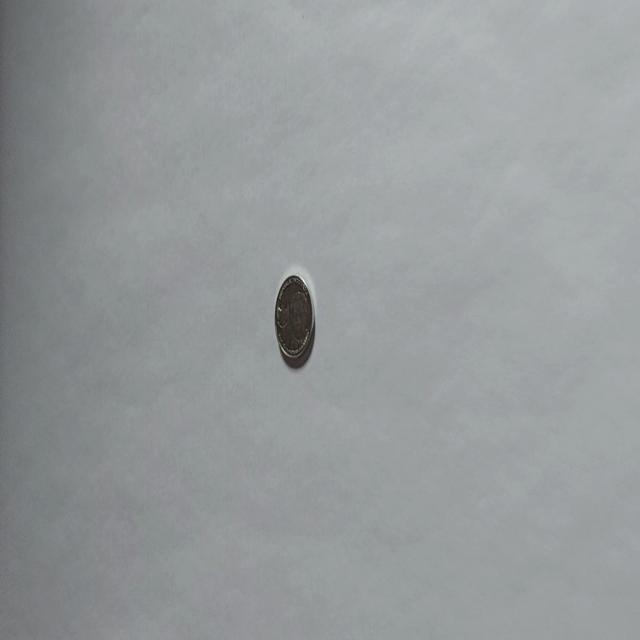seratus rupiah: (273, 272, 315, 366)
